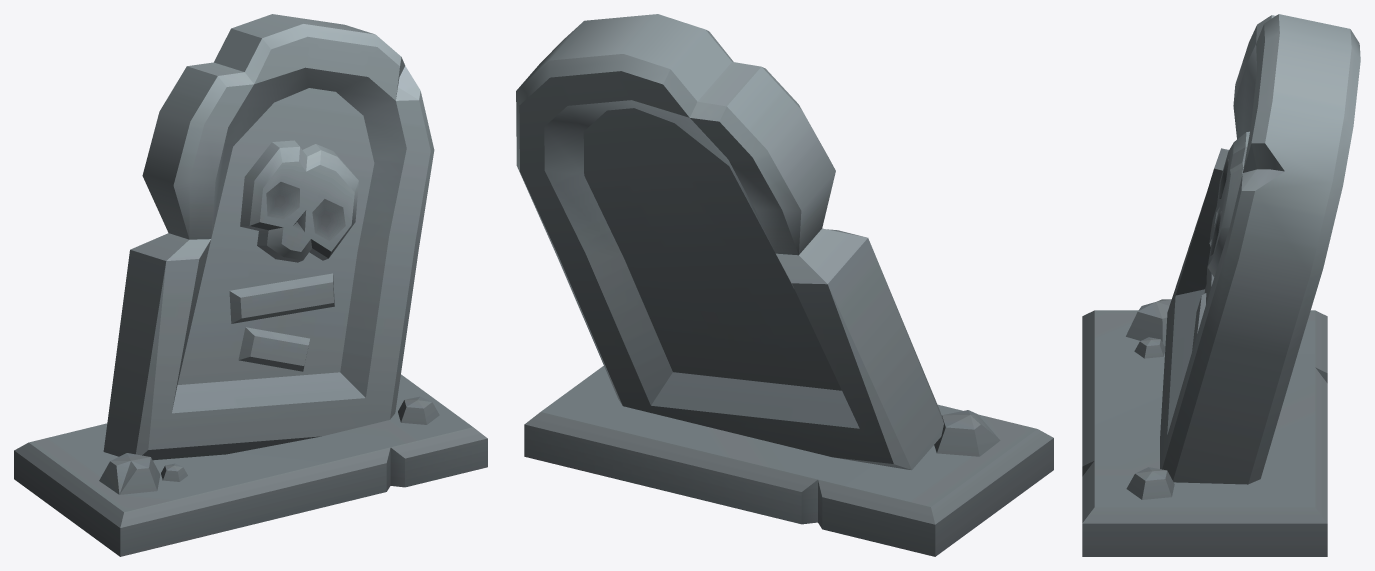
File: kaykit-halloween-bits-grave-a-destroyed.glb
3 renders of one model, left to right at view 1: azimuth 30°, elevation 25°; view 2: azimuth 150°, elevation 25°; view 3: azimuth 270°, elevation 25°, orthographic. The views are drawn at different scales.
Visible parts, largest first — view 1: grave_A_destroyed; view 2: grave_A_destroyed; view 3: grave_A_destroyed.
Part boxes in pixels (x1=…): grave_A_destroyed: x1=14, y1=14, x2=487, y2=556; grave_A_destroyed: x1=516, y1=14, x2=1053, y2=556; grave_A_destroyed: x1=1082, y1=14, x2=1360, y2=556.
Size of the model in its own units: 2.08 by 2.11 by 1.14.
Materials: 1 (1 with a texture image).
